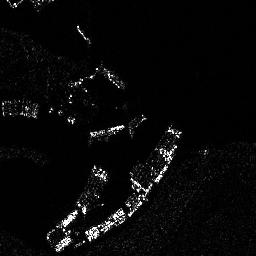ship: (90, 124, 125, 139), (75, 24, 92, 44)
